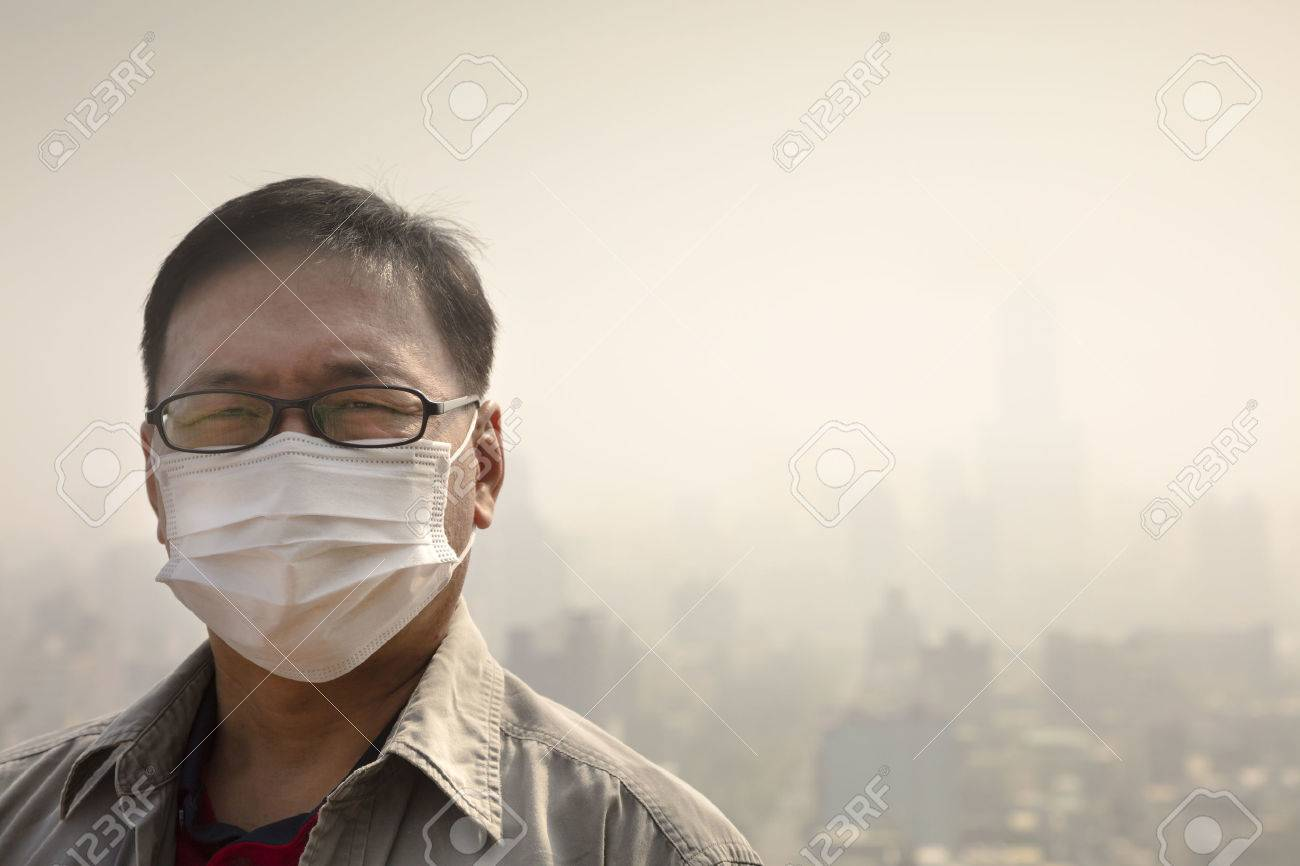with_mask: (144, 190, 521, 673)
